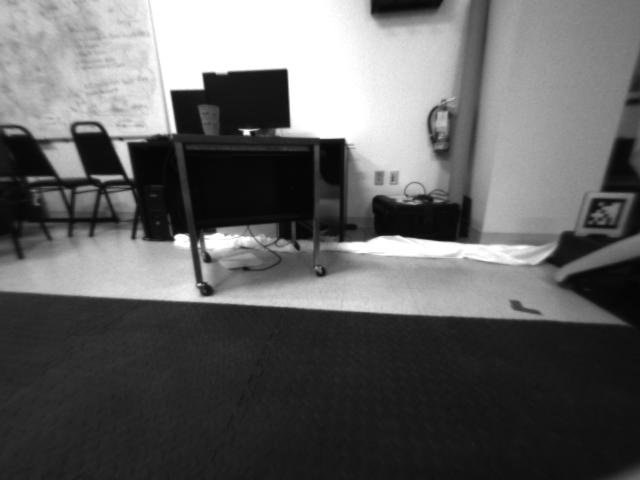coffee_cup: (195, 103, 225, 135)
